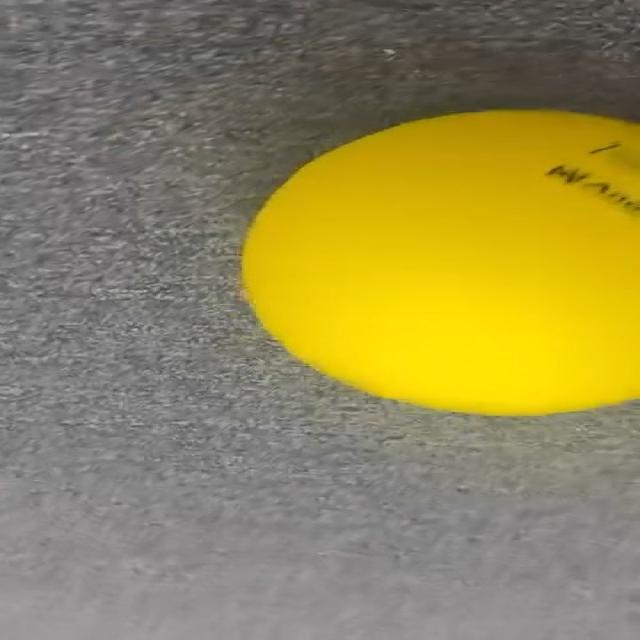Fuels: (227, 105, 640, 415)
